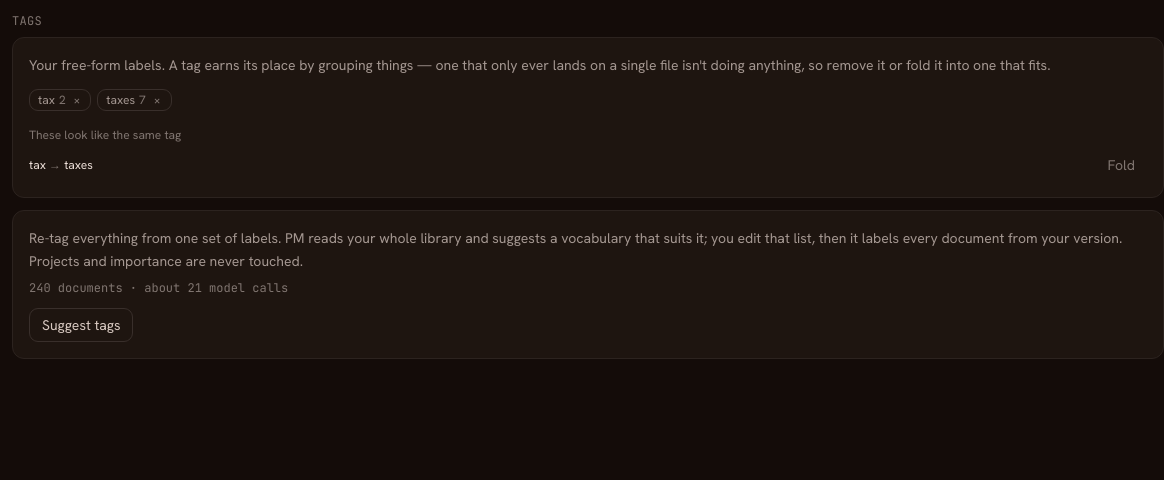
it: the re-tag pass › suggests a vocabulary without labelling anything
This screenshot has width=1164, height=480.
Check: the text "240 documents · about 21 model calls" is shown, box x1=29 y1=280 x2=288 y2=296
Step 1. Click the button "Suggest tags" → point(81, 325), box x1=29 y1=308 x2=134 y2=342
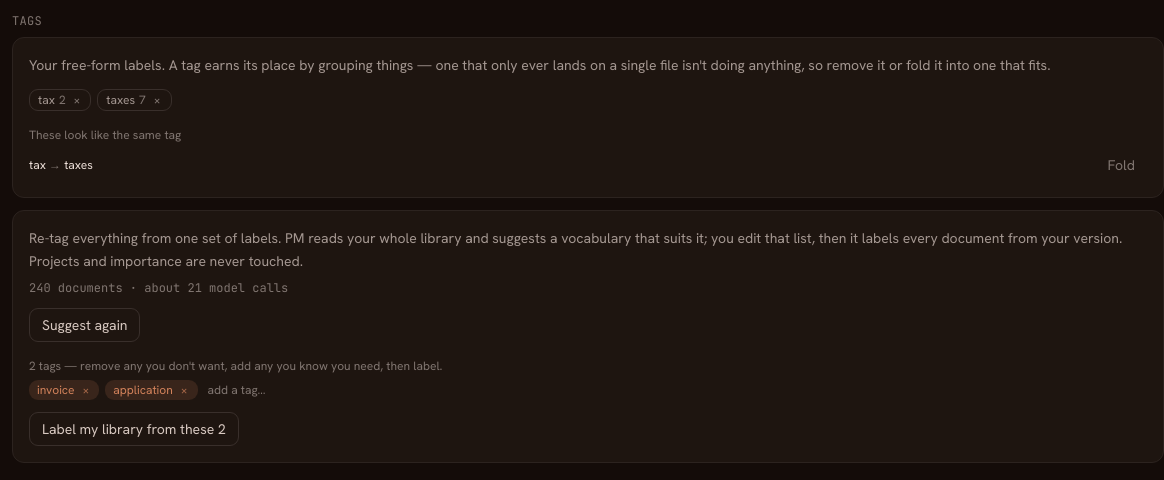
Check: the text "invoice" is shown, box x1=37 y1=382 x2=74 y2=398
